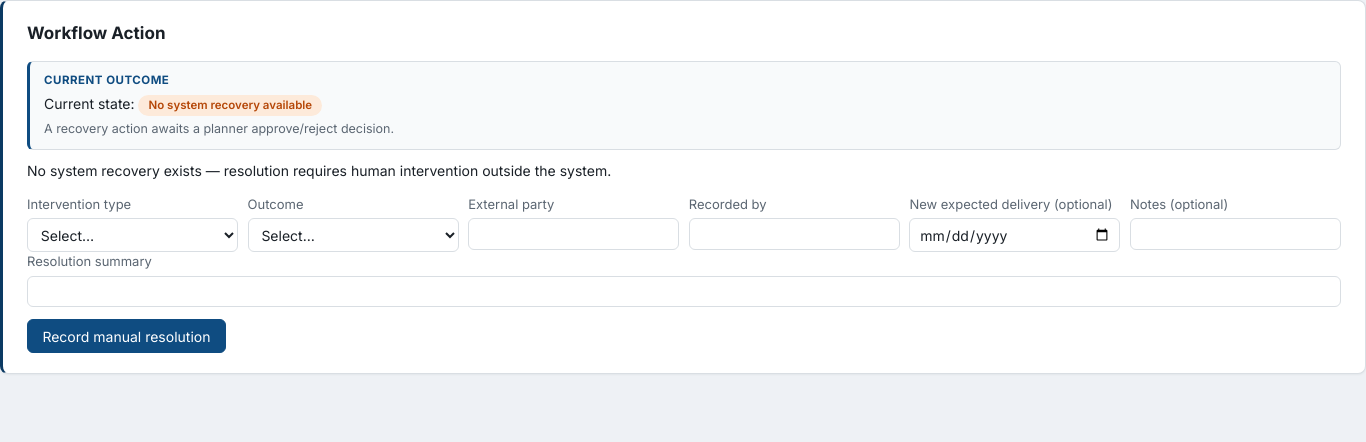
Test: WorkflowAction — manual resolution flow › requires the obvious fields before submitting
Click the button "Record manual resolution" at {"x": 126, "y": 336}, box left=27, top=319, right=226, bottom=353
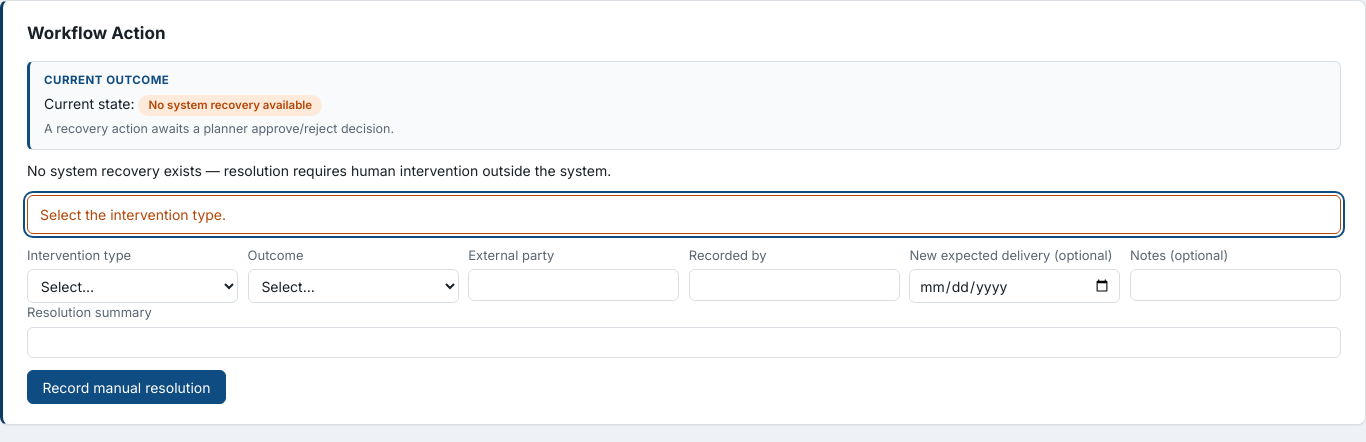
Expected: the message reads "Select the intervention type.", left=40, top=206, right=226, bottom=223
